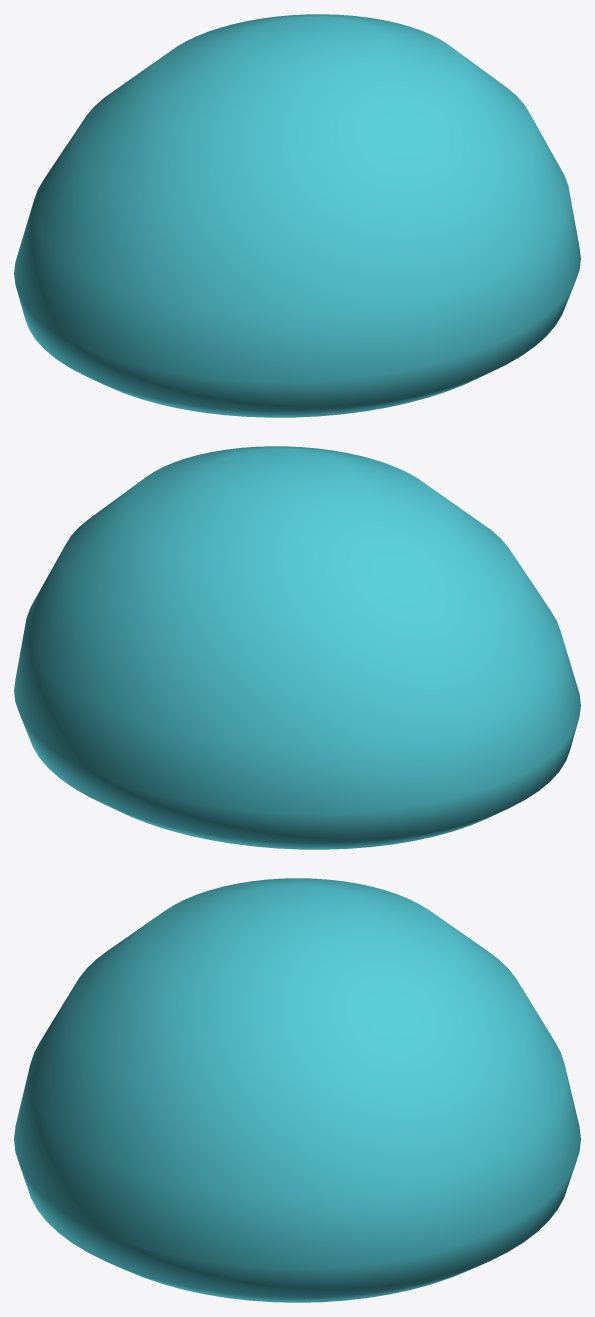
The picture shows the model from 3 angles, top to bottom: view 1: azimuth 30°, elevation 25°; view 2: azimuth 150°, elevation 25°; view 3: azimuth 270°, elevation 25°; orthographic projection. The views are drawn at different scales.
Parts seen in each view (by area): view 1: capsule_body; view 2: capsule_body; view 3: capsule_body.
Part boxes in pixels (bbox=[...]): capsule_body: bbox=[14, 14, 580, 417]; capsule_body: bbox=[14, 446, 580, 849]; capsule_body: bbox=[14, 878, 580, 1302].
Size of the model in its own units: 0.34 by 0.185 by 0.3162.
